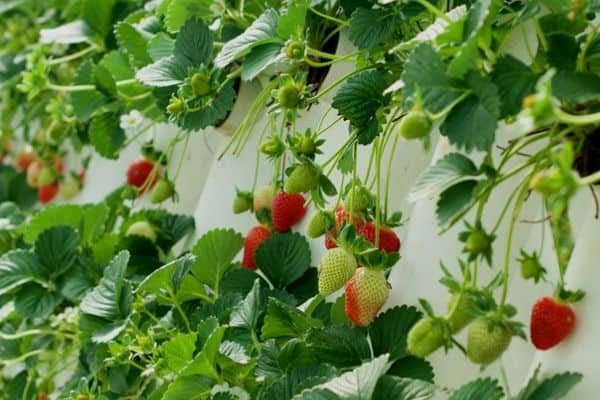green_strawberry: (344, 261, 389, 325), (465, 318, 510, 364), (404, 318, 449, 357), (398, 108, 438, 149), (318, 250, 352, 296), (447, 285, 478, 330), (283, 164, 319, 195), (515, 252, 545, 287), (306, 210, 337, 239), (462, 229, 489, 257), (186, 71, 214, 98), (339, 184, 368, 209), (276, 83, 303, 109), (229, 191, 253, 217), (151, 176, 175, 201), (61, 175, 80, 199), (39, 168, 57, 186)
red_strawberry: (528, 296, 579, 350), (274, 189, 305, 231), (244, 224, 268, 268), (364, 224, 397, 253), (124, 161, 158, 186), (39, 186, 57, 203)
